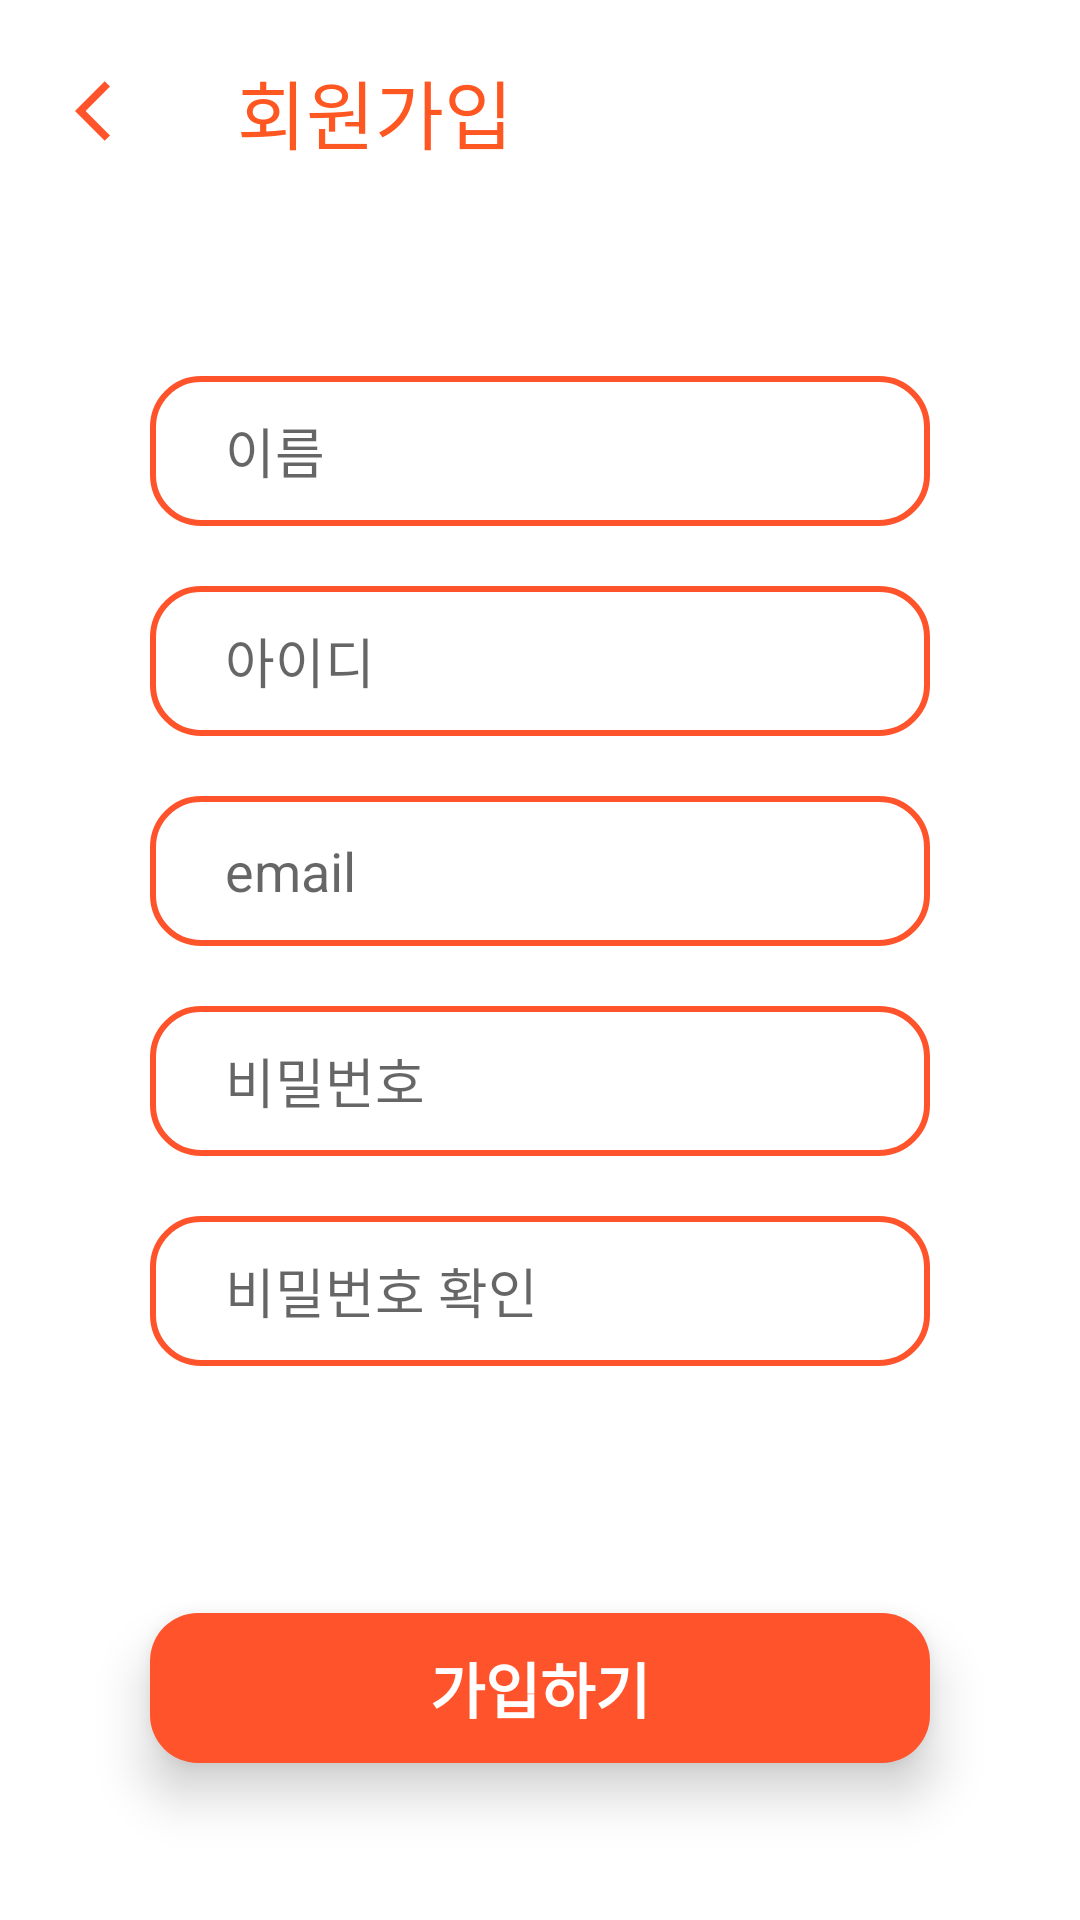

Icon bounding boxes for this 1080x1920 phone screenshot, format (x1, y1, x2, y2):
back arrow: (75, 81, 110, 141)
